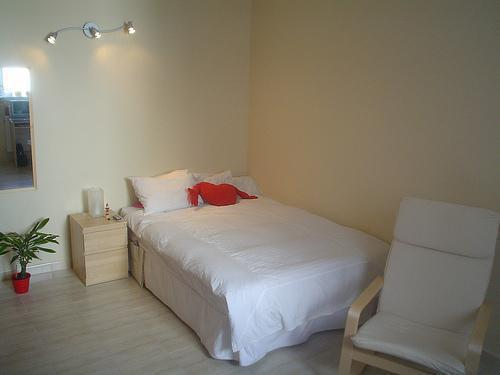Cama: (124, 168, 398, 348)
Matera: (1, 226, 64, 296)
